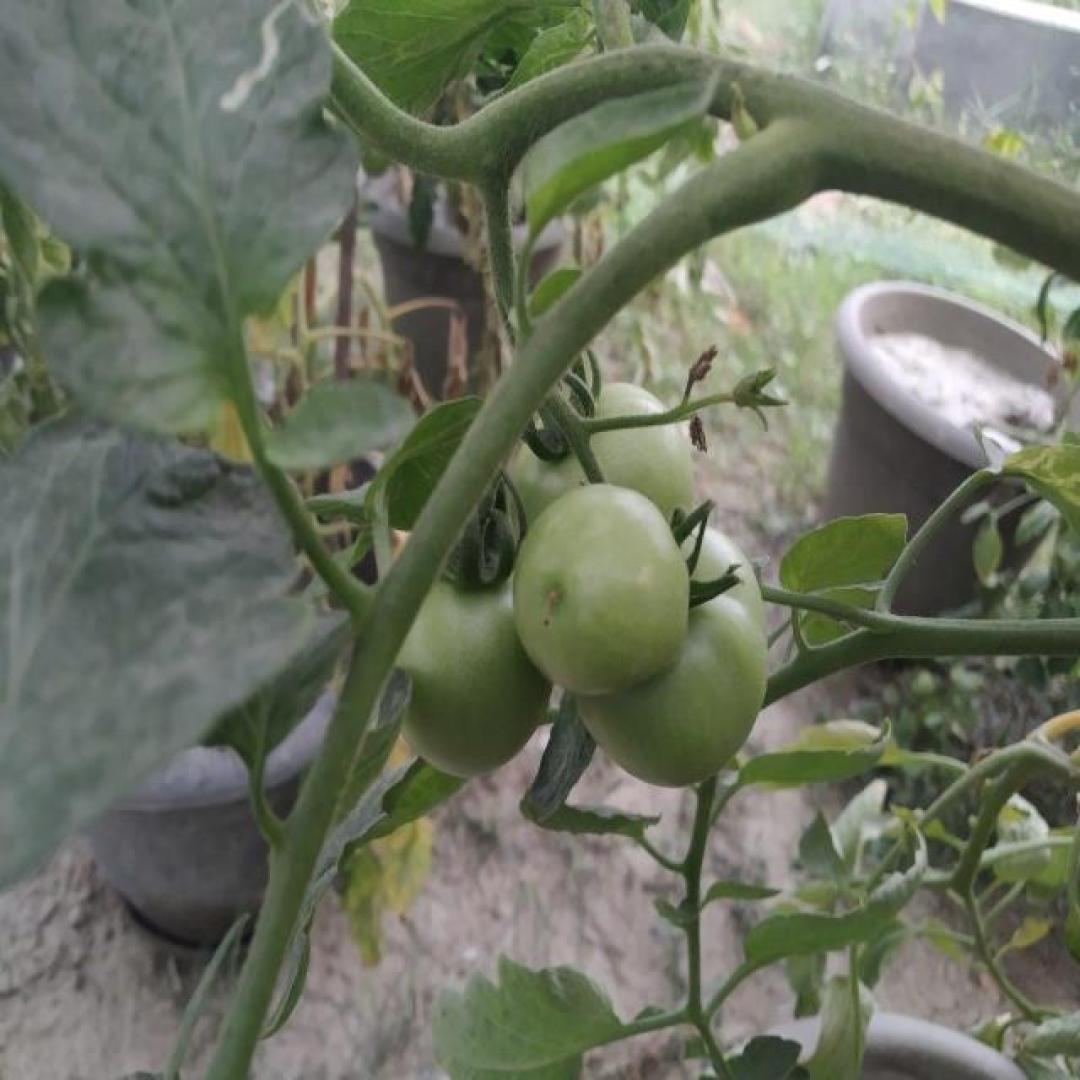mentah: (376, 548, 556, 772), (509, 481, 688, 697)
